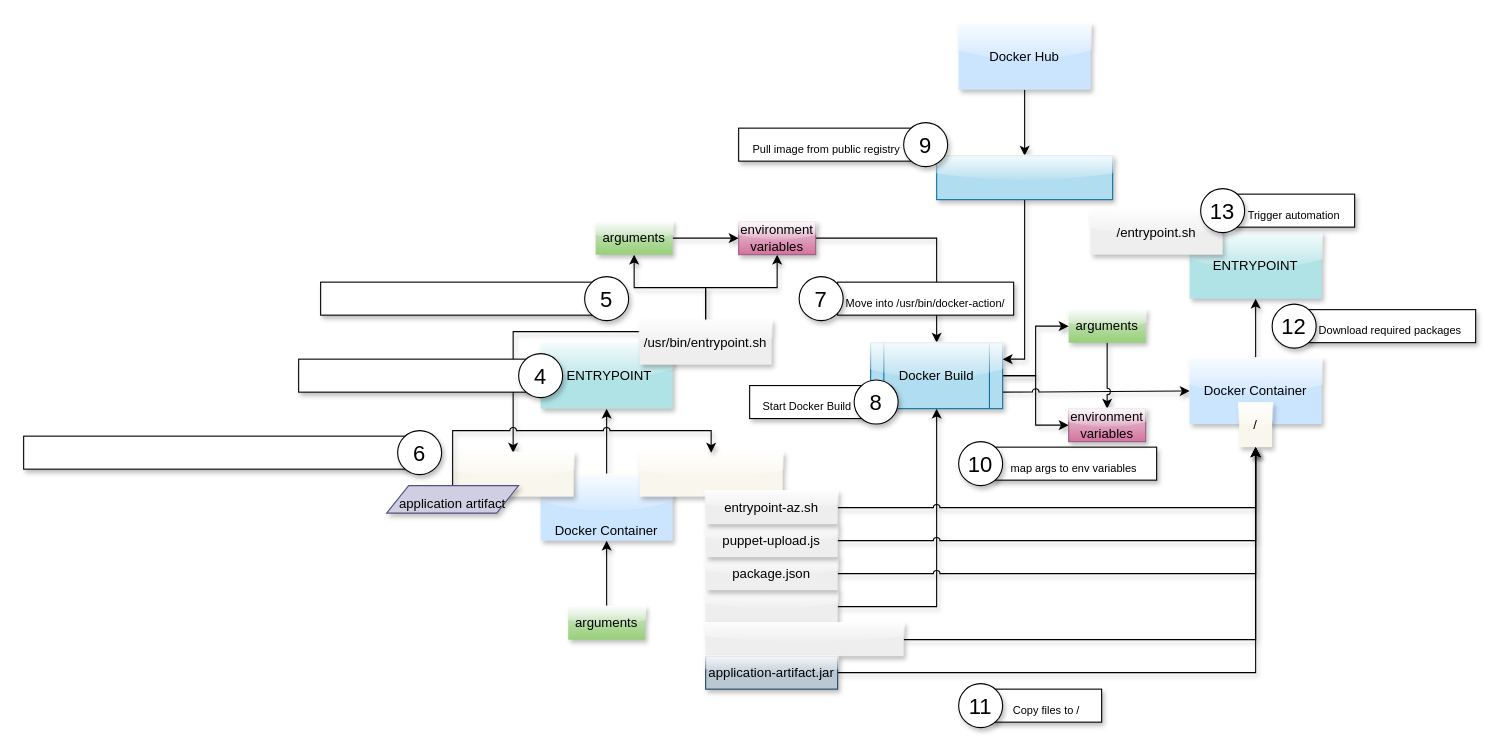
This 1502x755 diagram has some shape labels left out. The shapes that lost their labels are listed below. From the top down, each one's centre as x and y in pixels, then its label:
pixel 1025 178: mcr.microsoft.com/azure-cli
pixel 458 300: Map incoming arguments to environment variables
pixel 414 377: Script execution starts via ENTRYPOINT
pixel 216 454: Copy application artifact from mounted volume to /usr/bin/docker-action/
pixel 514 476: /github/workspace/
pixel 712 476: /usr/bin/docker-action
pixel 772 607: Dockerfile
pixel 805 640: file-demo-0.0.1-SNAPSHOT.jar
